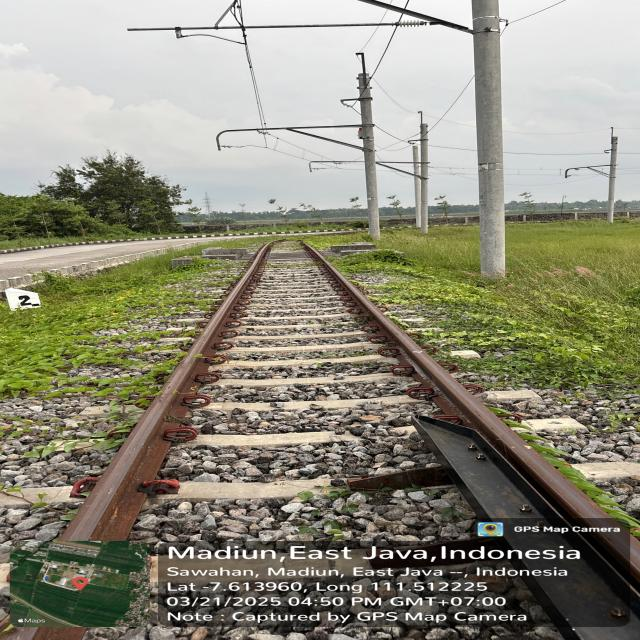rail-detection: (303, 244, 640, 640), (61, 242, 359, 541), (61, 244, 269, 540)
